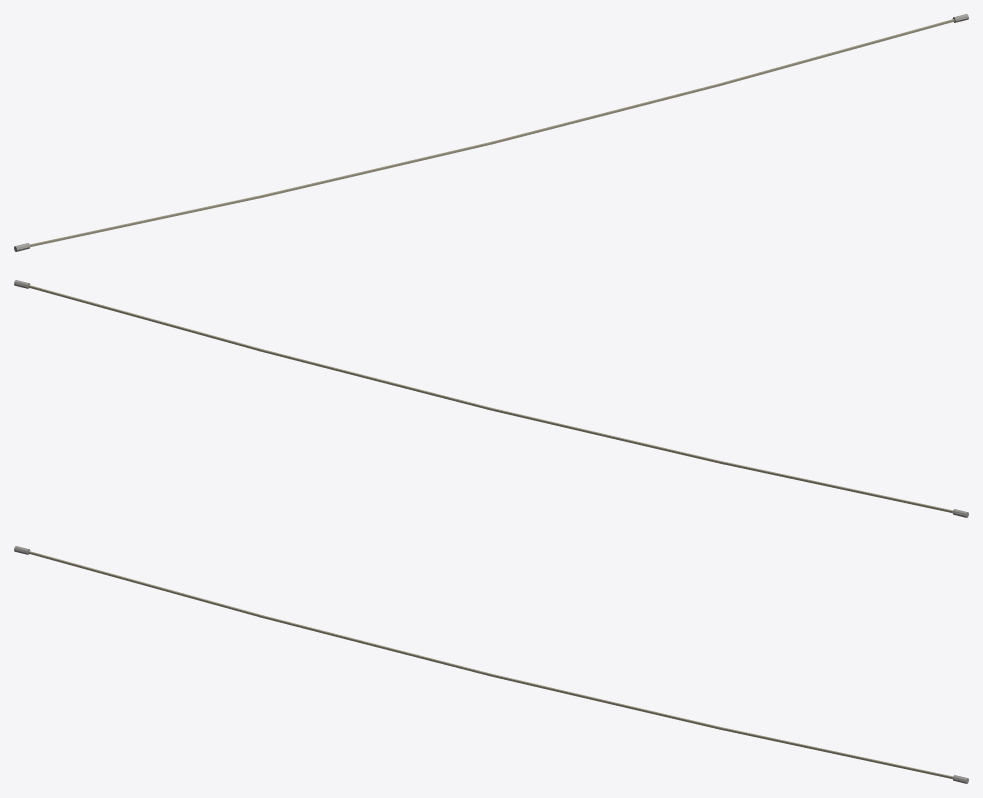
The model's file is drying-line-alcove.glb.
The picture shows the model from 3 angles, top to bottom: view 1: azimuth 30°, elevation 25°; view 2: azimuth 150°, elevation 25°; view 3: azimuth 330°, elevation 25°; orthographic projection.
Visible parts, largest first — view 1: plastic-light; view 2: plastic-light; view 3: plastic-light.
Boxes of the visible parts, <box> form: plastic-light: <box>30,19,954,246</box>; plastic-light: <box>28,285,952,512</box>; plastic-light: <box>28,551,952,778</box>.
Size of the model in its own units: 2.15 by 0.03 by 0.012.
